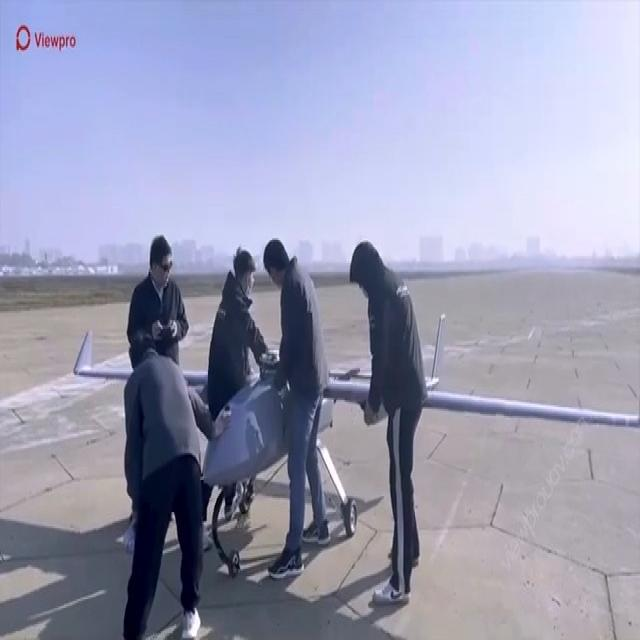drones: (192, 330, 398, 580)
